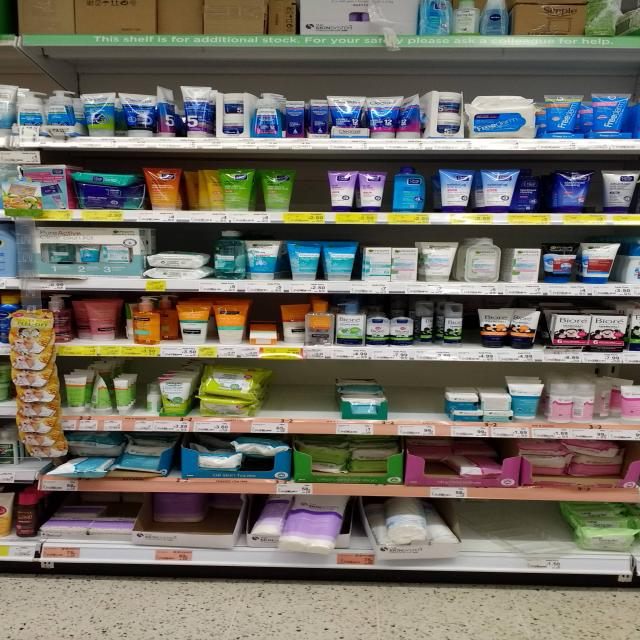100- O.O.S: (462, 502, 562, 570), (267, 361, 333, 433), (389, 361, 442, 435), (294, 161, 328, 223), (464, 299, 479, 361)
